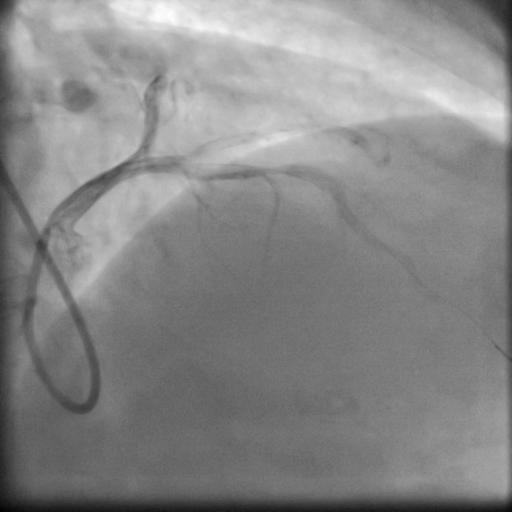Stenosis: (253, 158, 292, 184)
